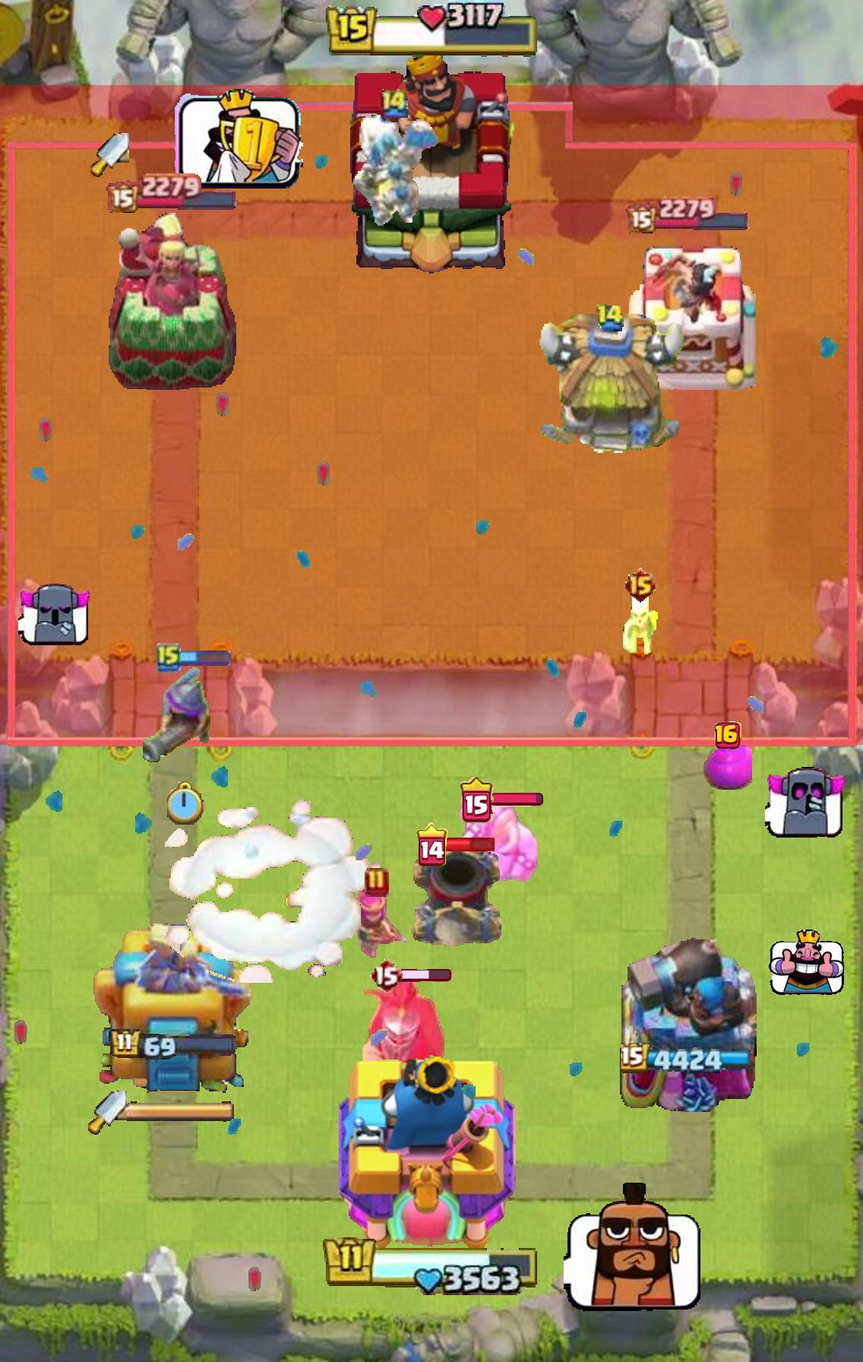bar: (444, 835, 497, 854), (490, 792, 543, 807), (399, 969, 452, 982)
bar-level: (459, 776, 495, 823), (416, 822, 447, 866), (623, 567, 658, 603), (369, 957, 403, 993), (714, 722, 741, 750), (365, 867, 389, 898)
